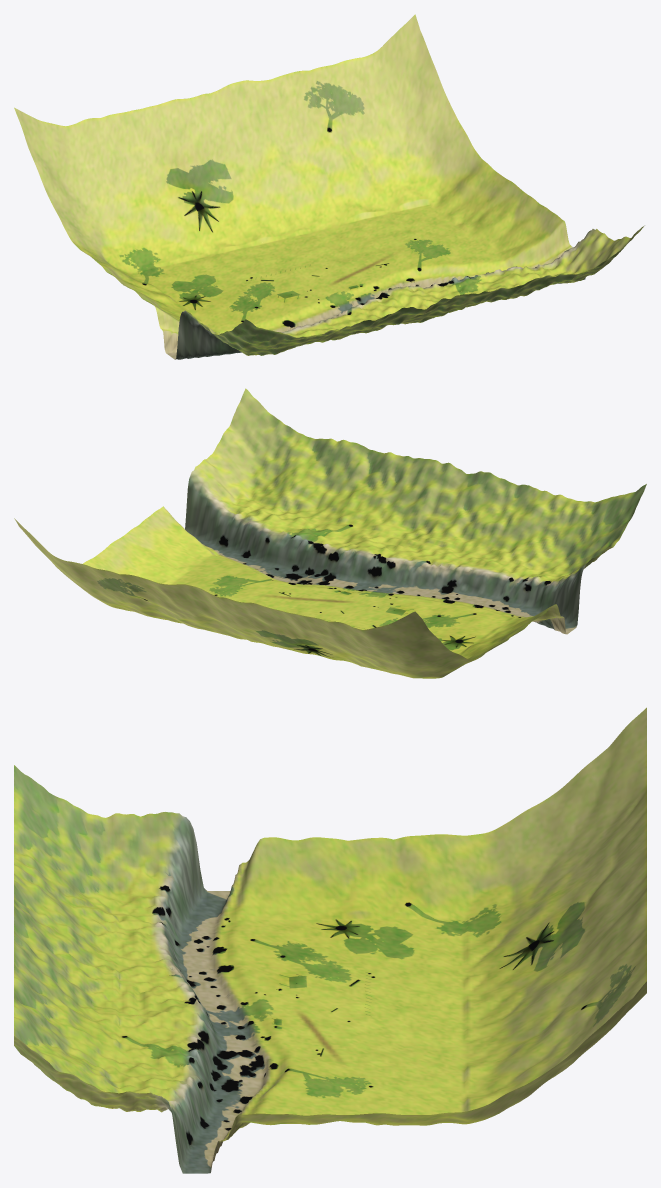
File: hoy_terreno.glb
3 renders of one model, top to bottom at view 1: azimuth 30°, elevation 25°; view 2: azimuth 150°, elevation 25°; view 3: azimuth 270°, elevation 25°, orthographic. The views are drawn at different scales.
Visible parts, largest first — view 1: Terreno; view 2: Terreno; view 3: Terreno.
Part boxes in pixels (left/top/right/bottom): Terreno: left=14, top=14, right=644, bottom=359; Terreno: left=14, top=388, right=646, bottom=678; Terreno: left=14, top=707, right=646, bottom=1173.
Bounding box in the file's own units: 90 × 31.18 × 90.
1 material, 1 textured.
